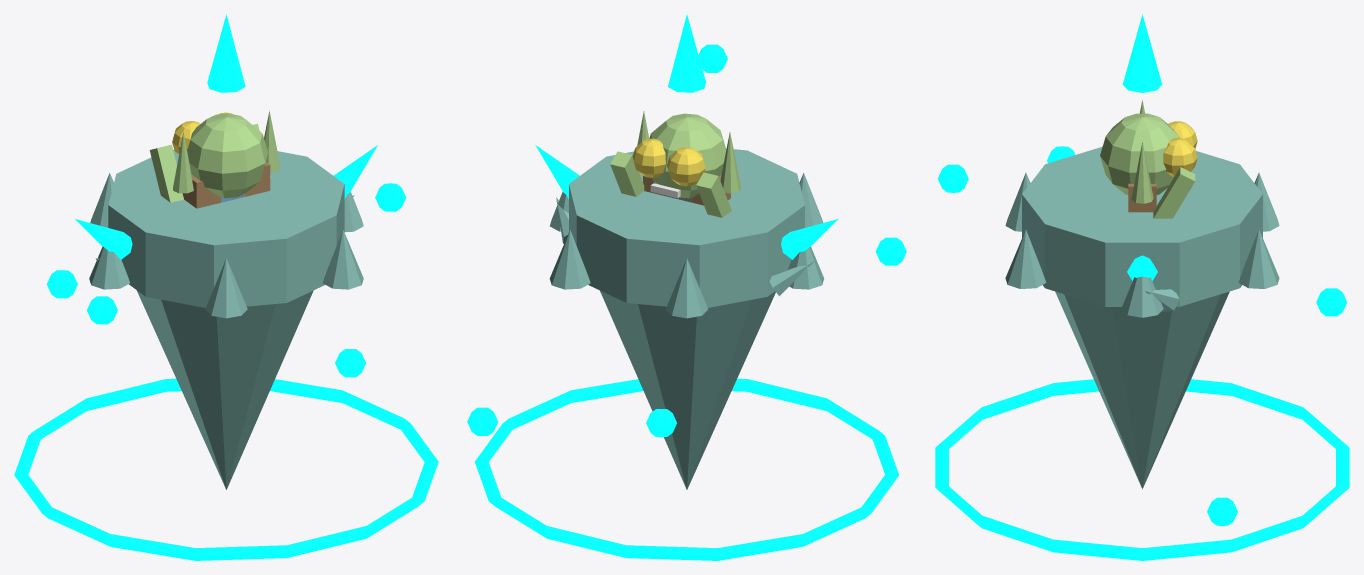
File: evolved_goblin_drill.glb
The picture shows the model from 3 angles, left to right: view 1: azimuth 30°, elevation 25°; view 2: azimuth 150°, elevation 25°; view 3: azimuth 270°, elevation 25°; orthographic projection.
Parts seen in each view (by area): view 1: evolved_goblin_drill; view 2: evolved_goblin_drill; view 3: evolved_goblin_drill.
Boxes of the visible parts, <box> form: evolved_goblin_drill: <box>14,14,438,560</box>; evolved_goblin_drill: <box>467,15,906,560</box>; evolved_goblin_drill: <box>935,14,1349,560</box>.
Size of the model in its own units: 3.3 by 4.07 by 3.22.
